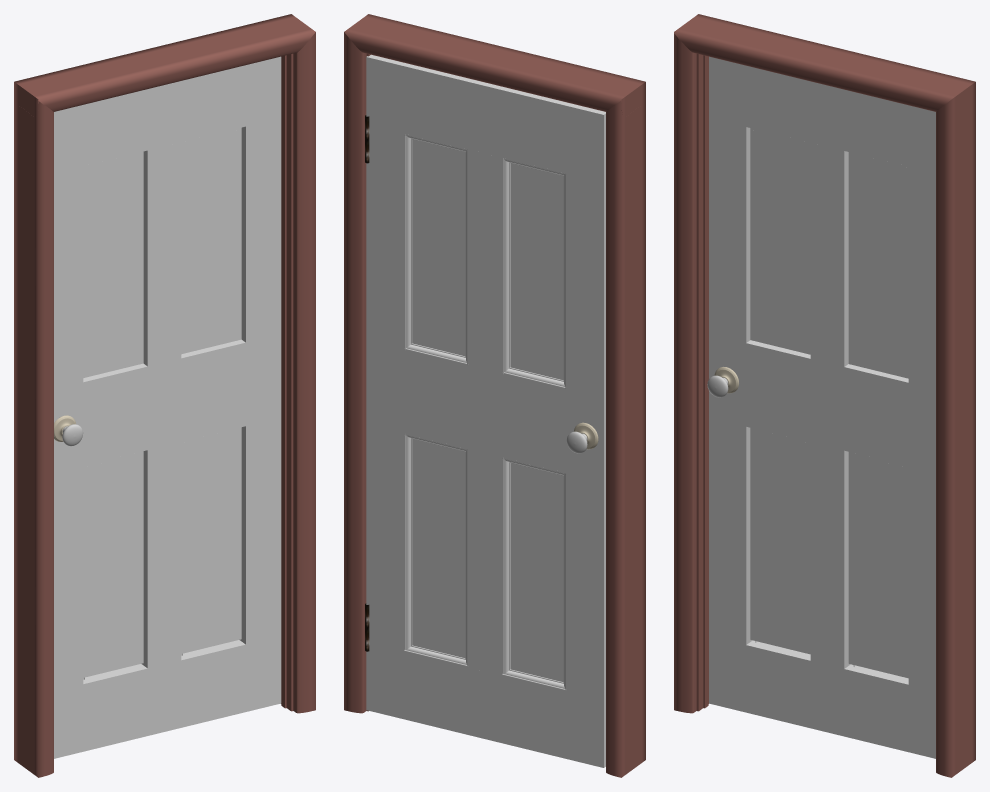
The model's file is sweethome3d-contributions-door-258.glb.
3 views of the same model, side by side, from view 1: azimuth 30°, elevation 25°; view 2: azimuth 150°, elevation 25°; view 3: azimuth 330°, elevation 25° (orthographic).
Visible parts, largest first — view 1: extrudedSurface981_43_43, pCube222_5_5, pCube227_11_11, pCube224_8_8, extrudedSurface98_42_98, pPlane731_30_86, pPlane729_28_84, pPlane730_29_85, pPlane732_31_87, pCube223_6_6, extrudedSurface982_50_106, pCube226_10_10 (+6 smaller); view 2: extrudedSurface981_43_43, pCube224_8_8, pCube222_5_5, pCube227_11_11, extrudedSurface98_42_98, pCube226_10_10, pPlane731_30_30, pPlane732_31_31, pCube223_6_6, pPlane729_28_28, pPlane730_29_29, extrudedSurface982_50_106 (+15 smaller); view 3: extrudedSurface98_42_98, pCube224_8_8, pCube227_11_11, pCube222_5_5, extrudedSurface981_43_43, pPlane729_28_84, pPlane730_29_85, pPlane732_31_87, pPlane731_30_86, pCube223_6_6, extrudedSurface982_50_106, pCube226_10_10 (+6 smaller).
Part boxes in pixels (box(x1,y1,x2,y2)): extrudedSurface981_43_43: box(14, 82, 53, 777); pCube222_5_5: box(239, 56, 281, 711); pCube227_11_11: box(141, 142, 181, 668); pCube224_8_8: box(54, 105, 83, 758); extrudedSurface98_42_98: box(293, 32, 315, 713); pPlane731_30_86: box(181, 427, 241, 653); pPlane729_28_84: box(181, 127, 241, 354); pPlane730_29_85: box(83, 151, 143, 377); pPlane732_31_87: box(83, 451, 143, 677); pCube223_6_6: box(83, 640, 245, 751); extrudedSurface982_50_106: box(14, 14, 315, 111); pCube226_10_10: box(83, 65, 245, 165); extrudedSurface981_43_43: box(606, 82, 645, 777); pCube224_8_8: box(566, 103, 605, 767); pCube222_5_5: box(366, 54, 407, 719); pCube227_11_11: box(468, 148, 502, 675); extrudedSurface98_42_98: box(344, 32, 366, 713); pCube226_10_10: box(404, 63, 569, 173); pPlane731_30_30: box(412, 439, 465, 657); pPlane732_31_31: box(510, 463, 563, 682); pCube223_6_6: box(404, 652, 566, 758); pPlane729_28_28: box(412, 139, 465, 356); pPlane730_29_29: box(510, 163, 563, 380); extrudedSurface982_50_106: box(344, 14, 645, 111); extrudedSurface98_42_98: box(936, 82, 975, 777); pCube224_8_8: box(709, 56, 752, 712); pCube227_11_11: box(810, 143, 850, 668); pCube222_5_5: box(908, 105, 935, 758); extrudedSurface981_43_43: box(674, 34, 696, 713); pPlane729_28_84: box(848, 152, 908, 378); pPlane730_29_85: box(750, 128, 810, 354); pPlane732_31_87: box(750, 428, 810, 654); pPlane731_30_86: box(848, 452, 908, 678); pCube223_6_6: box(746, 640, 908, 752); extrudedSurface982_50_106: box(674, 14, 975, 111); pCube226_10_10: box(746, 66, 908, 166).
Size of the model in its own units: 91.44 by 214 by 18.23.
Materials: 6 (2 with a texture image).
